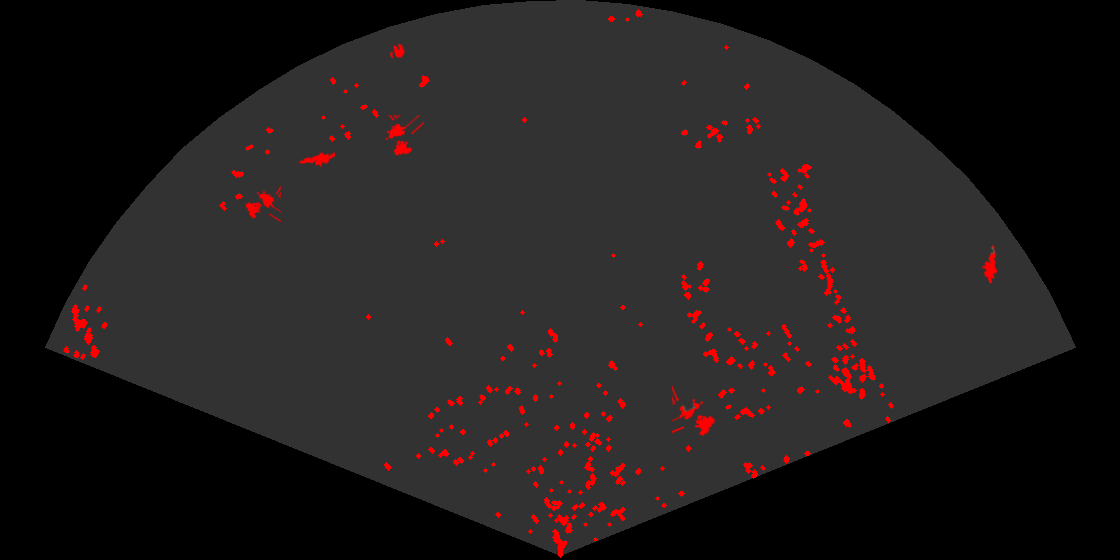ball: (389, 42, 407, 60)
cage: (672, 386, 717, 438), (384, 115, 424, 157), (244, 184, 281, 224)
frogman: (980, 244, 999, 283), (298, 149, 335, 169)
